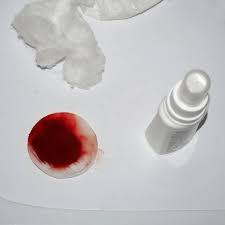Iv_Bottle: (145, 70, 210, 153)
